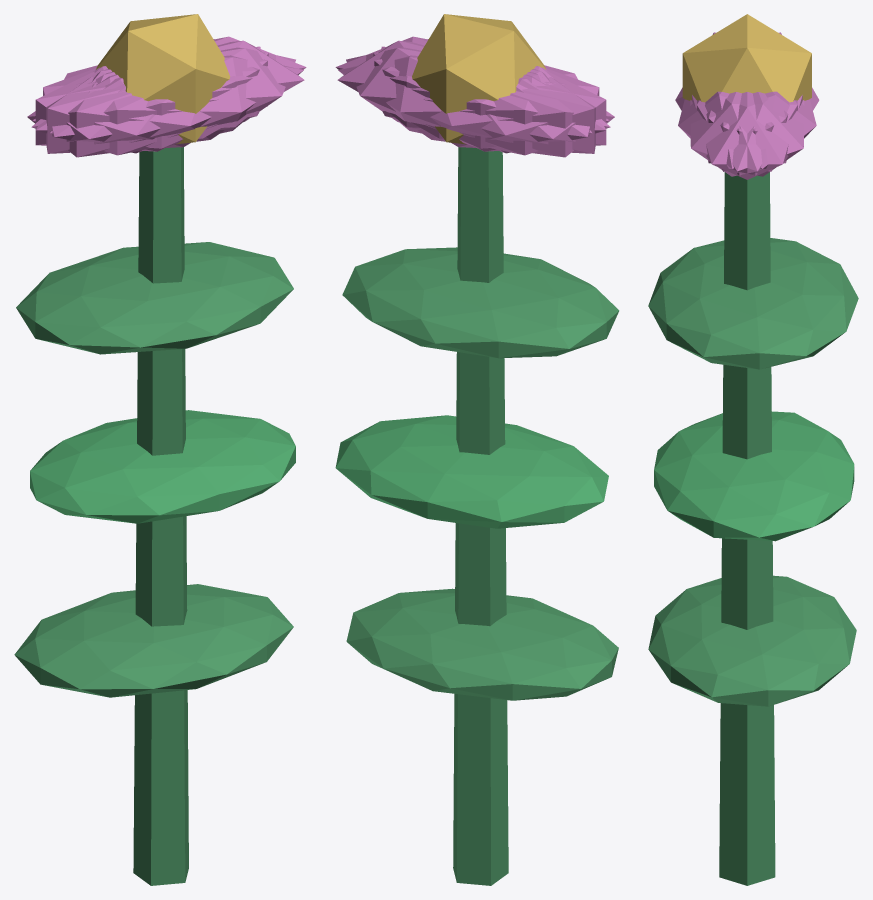
File: zamioculcas-zamiifolia.glb
3 views of the same model, side by side, from view 1: azimuth 30°, elevation 25°; view 2: azimuth 150°, elevation 25°; view 3: azimuth 270°, elevation 25° (orthographic).
Parts seen in each view (by area): view 1: stem, leaf2, leaf0, leaf1, center, petal1, petal6, petal2, petal5, petal7, petal0, petal4 (+2 smaller); view 2: stem, leaf1, leaf2, leaf0, center, petal8, petal3, petal7, petal4, petal2, petal0, petal5 (+2 smaller); view 3: stem, leaf2, leaf1, leaf0, center, petal0, petal5, petal4, petal1, petal8.
Part boxes in pixels (left/top/right/bottom): stem: left=133, top=147, right=188, bottom=885; leaf2: left=16, top=242, right=293, bottom=354; leaf0: left=14, top=584, right=293, bottom=697; leaf1: left=30, top=410, right=295, bottom=523; center: left=96, top=14, right=230, bottom=144; petal1: left=31, top=55, right=303, bottom=155; petal6: left=27, top=67, right=224, bottom=157; petal2: left=46, top=46, right=260, bottom=153; petal5: left=50, top=47, right=295, bottom=148; petal7: left=35, top=52, right=268, bottom=151; petal0: left=95, top=40, right=304, bottom=138; petal4: left=33, top=36, right=306, bottom=130; stem: left=453, top=147, right=508, bottom=885; leaf1: left=335, top=415, right=608, bottom=528; leaf2: left=342, top=247, right=619, bottom=358; leaf0: left=346, top=588, right=618, bottom=700; center: left=412, top=14, right=546, bottom=144; petal8: left=338, top=55, right=610, bottom=155; petal3: left=418, top=67, right=614, bottom=157; petal7: left=381, top=46, right=595, bottom=153; petal4: left=346, top=47, right=591, bottom=148; petal2: left=373, top=52, right=606, bottom=151; petal0: left=337, top=40, right=546, bottom=138; petal5: left=335, top=36, right=609, bottom=130; stem: left=719, top=172, right=775, bottom=885; leaf2: left=648, top=238, right=858, bottom=369; leaf1: left=654, top=411, right=854, bottom=541; leaf0: left=648, top=575, right=856, bottom=706; center: left=682, top=14, right=811, bottom=102; petal0: left=692, top=92, right=802, bottom=179; petal5: left=690, top=92, right=797, bottom=176; petal4: left=697, top=92, right=804, bottom=176; petal1: left=678, top=91, right=788, bottom=168; petal8: left=706, top=91, right=816, bottom=168.
Size of the model in its own units: 0.1452 by 0.4407 by 0.0998.
